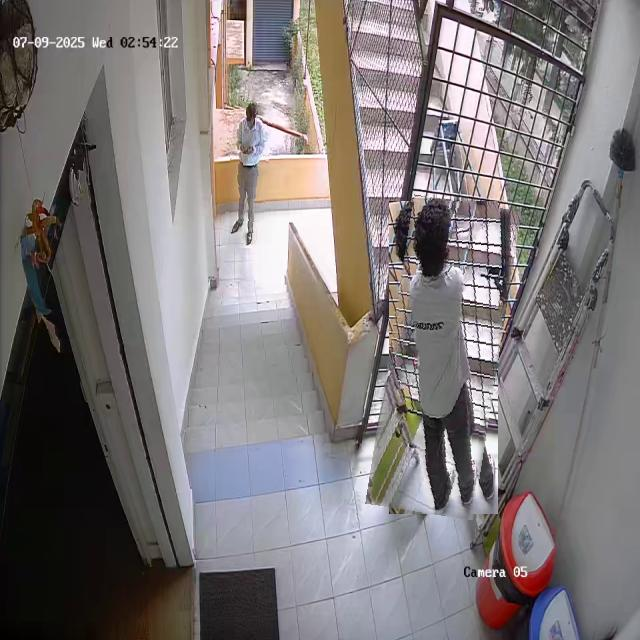person: (377, 198, 510, 517), (225, 102, 270, 248)
